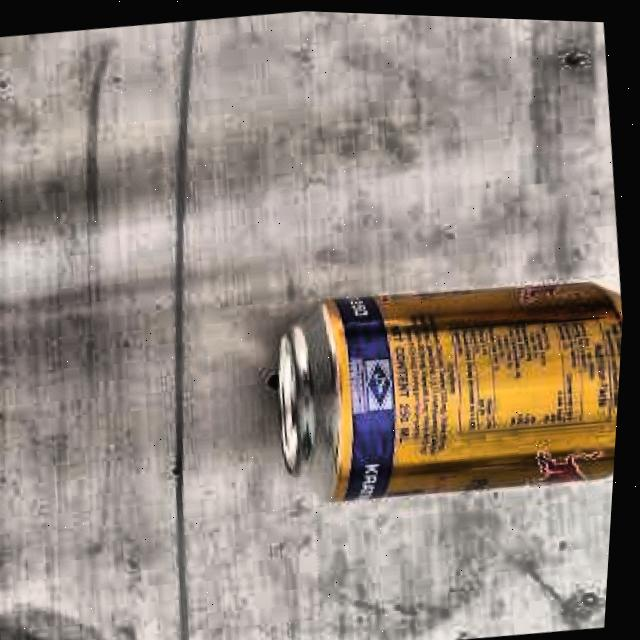metal: (246, 267, 628, 521)
